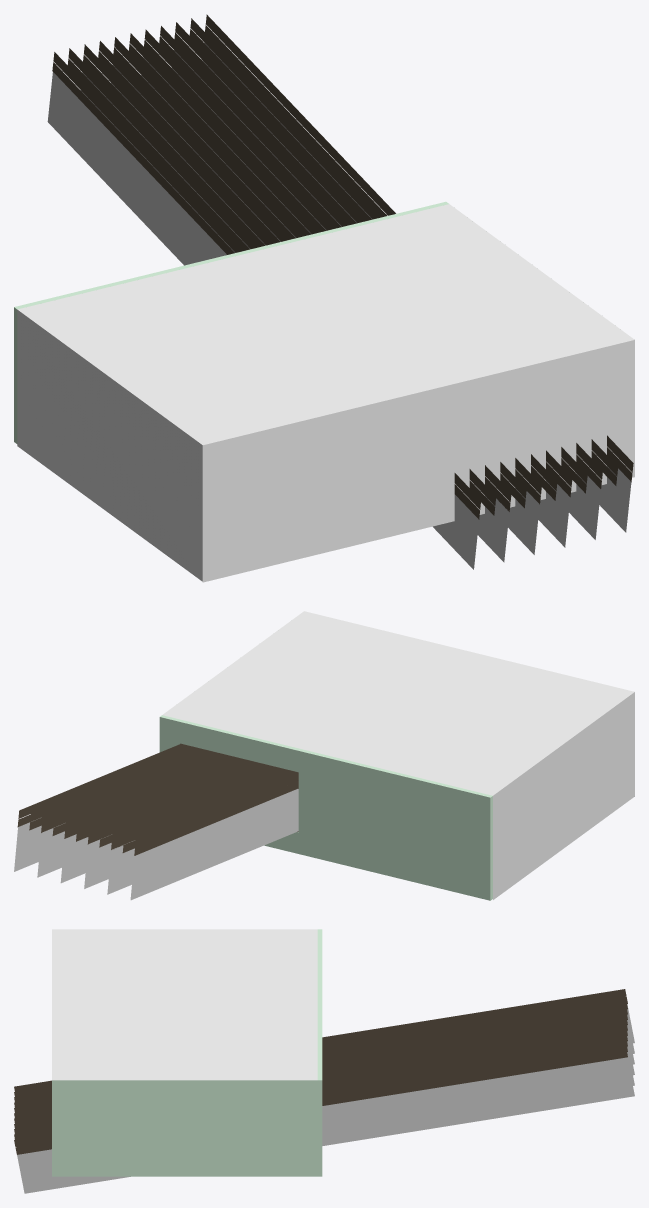
File: house.glb
The picture shows the model from 3 angles, top to bottom: view 1: azimuth 30°, elevation 25°; view 2: azimuth 150°, elevation 25°; view 3: azimuth 270°, elevation 25°; orthographic projection. The views are drawn at different scales.
Parts seen in each view (by area): view 1: house_ceiling, god_rays_top, god_rays_bottom, house_walls; view 2: house_ceiling, house_walls, god_rays_top, god_rays_bottom; view 3: house_ceiling, house_walls, god_rays_top, god_rays_bottom.
Part boxes in pixels (box(x1,y1,x2,y2)): house_ceiling: box(17, 204, 634, 582); god_rays_top: box(52, 14, 633, 519); god_rays_bottom: box(47, 43, 631, 569); house_walls: box(14, 201, 448, 443); house_ceiling: box(162, 611, 634, 899); house_walls: box(159, 715, 492, 900); god_rays_top: box(17, 743, 298, 855); god_rays_bottom: box(14, 789, 298, 900); house_ceiling: box(52, 929, 317, 1080); house_walls: box(52, 929, 322, 1176); god_rays_top: box(14, 989, 627, 1154); god_rays_bottom: box(17, 1004, 634, 1193).
Bounding box in the file's own units: 80.98 × 37.91 × 141.
